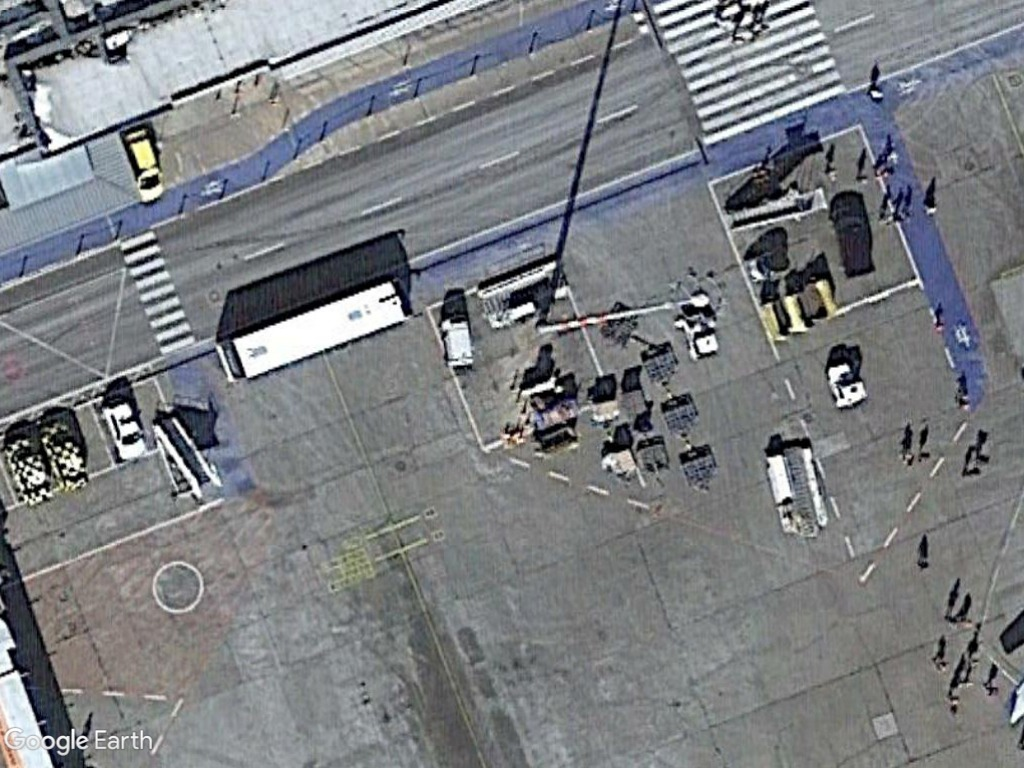bus: (208, 268, 419, 388)
car: (96, 392, 151, 464)
